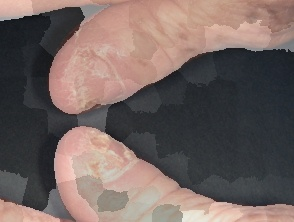Nail_psoriasis: (58, 120, 151, 202), (51, 36, 132, 118)
